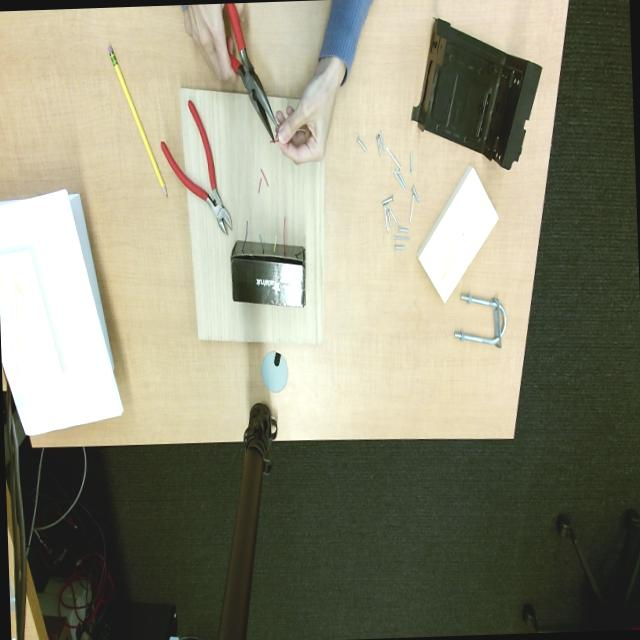pliers: (161, 100, 232, 233), (226, 3, 277, 140)
